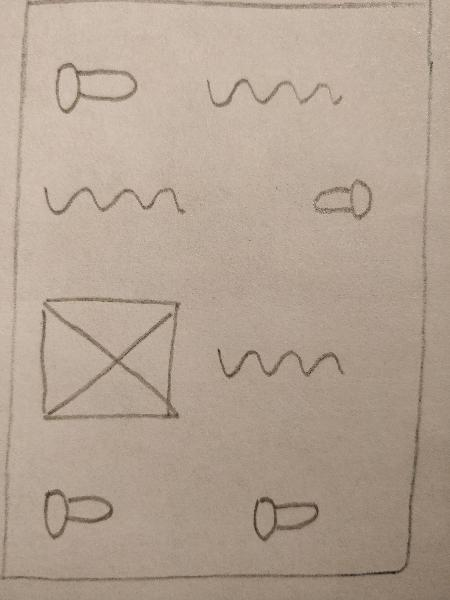image: (27, 282, 187, 432)
switch: (50, 54, 141, 122), (296, 162, 387, 230), (32, 479, 123, 547), (233, 484, 324, 552)
text: (193, 61, 347, 121), (39, 171, 185, 226), (204, 336, 350, 391)
